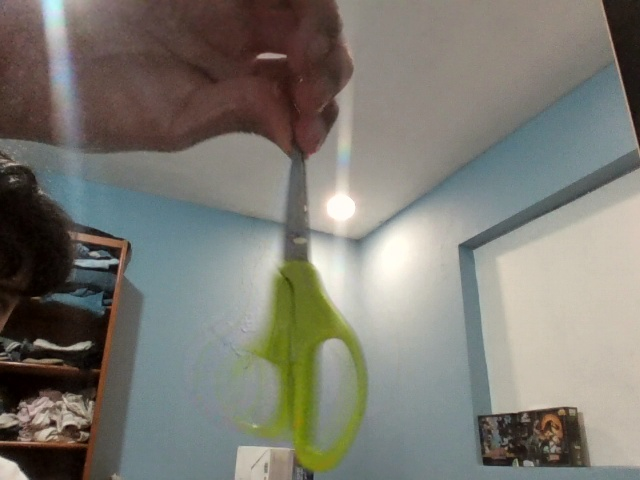tijeras: (221, 142, 372, 474)
